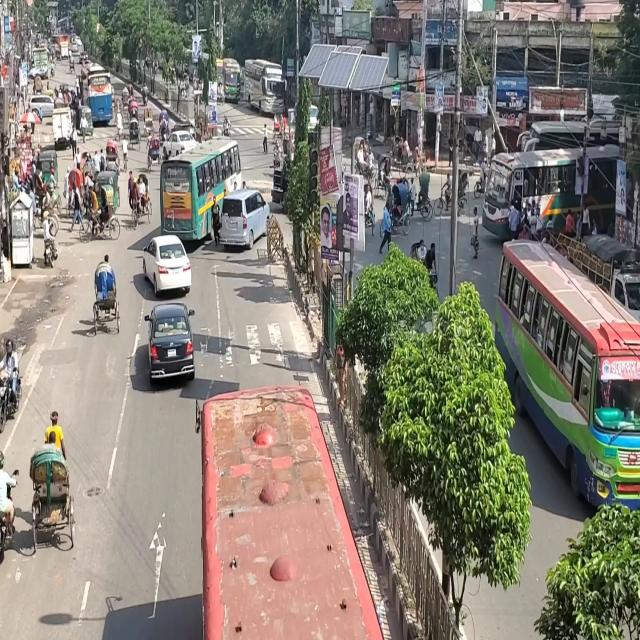black: (148, 303, 194, 385)
silver: (220, 191, 272, 250)
white: (142, 237, 192, 291)
